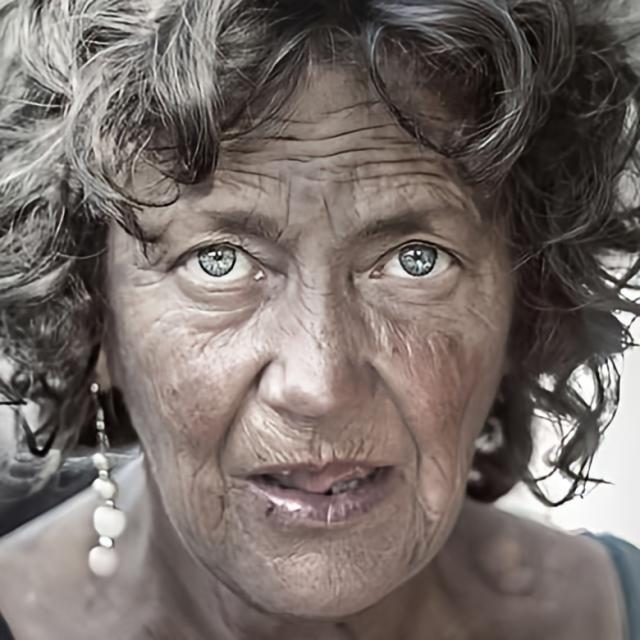surprise: (109, 46, 507, 621)
